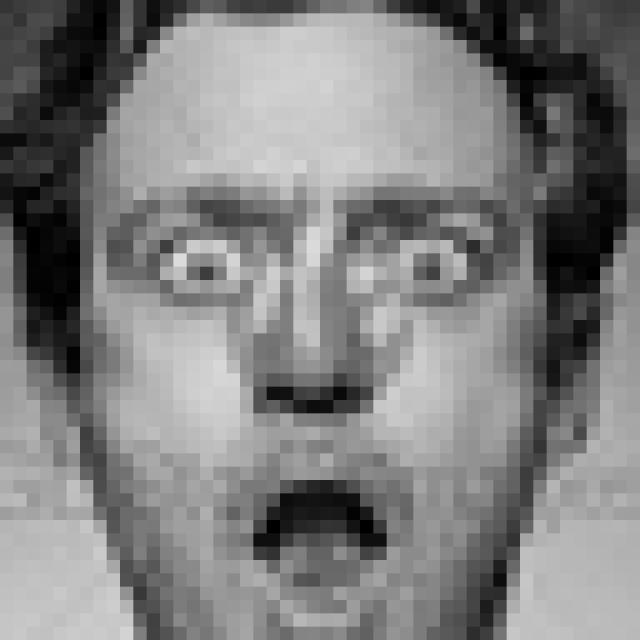surprise: (94, 174, 523, 640)
